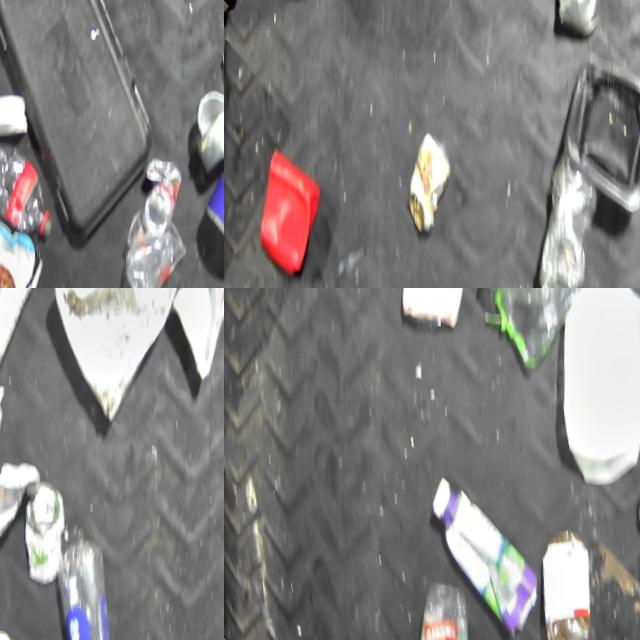can: (23, 475, 74, 586), (406, 129, 457, 233), (143, 153, 189, 235), (551, 0, 609, 30)
milk_jug: (556, 288, 640, 484)
plastic_bottle: (535, 154, 607, 288), (49, 531, 136, 640), (0, 134, 60, 242)
